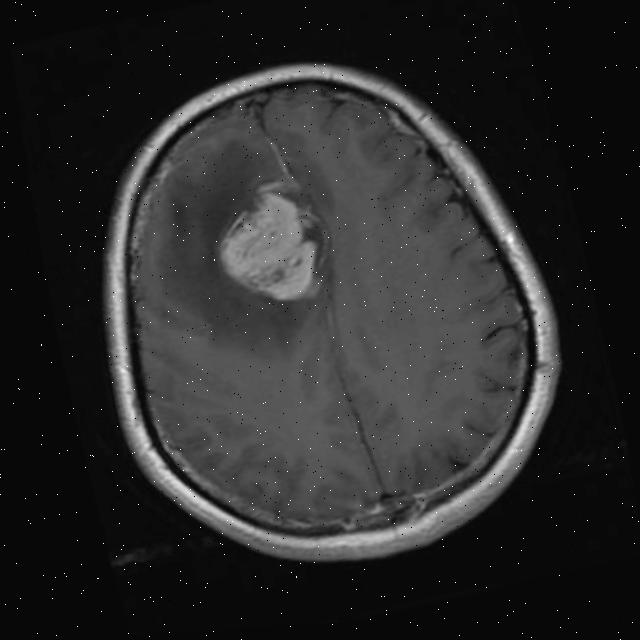Meningioma: (202, 167, 340, 318)
